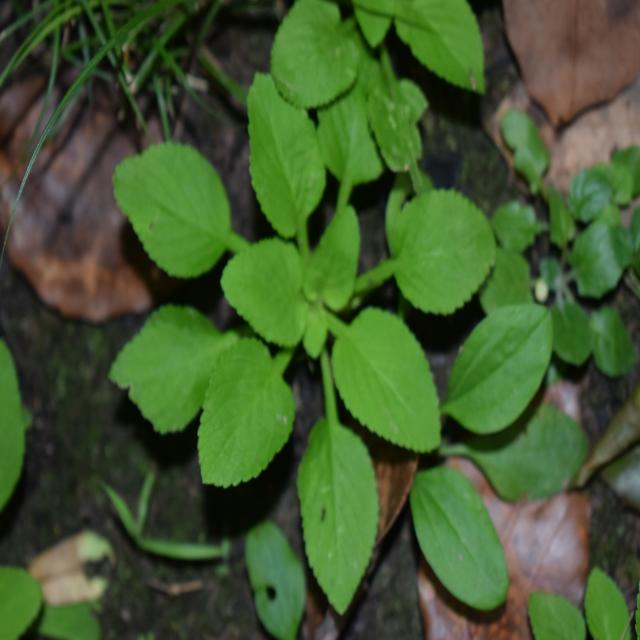Viola: (135, 69, 470, 561)
